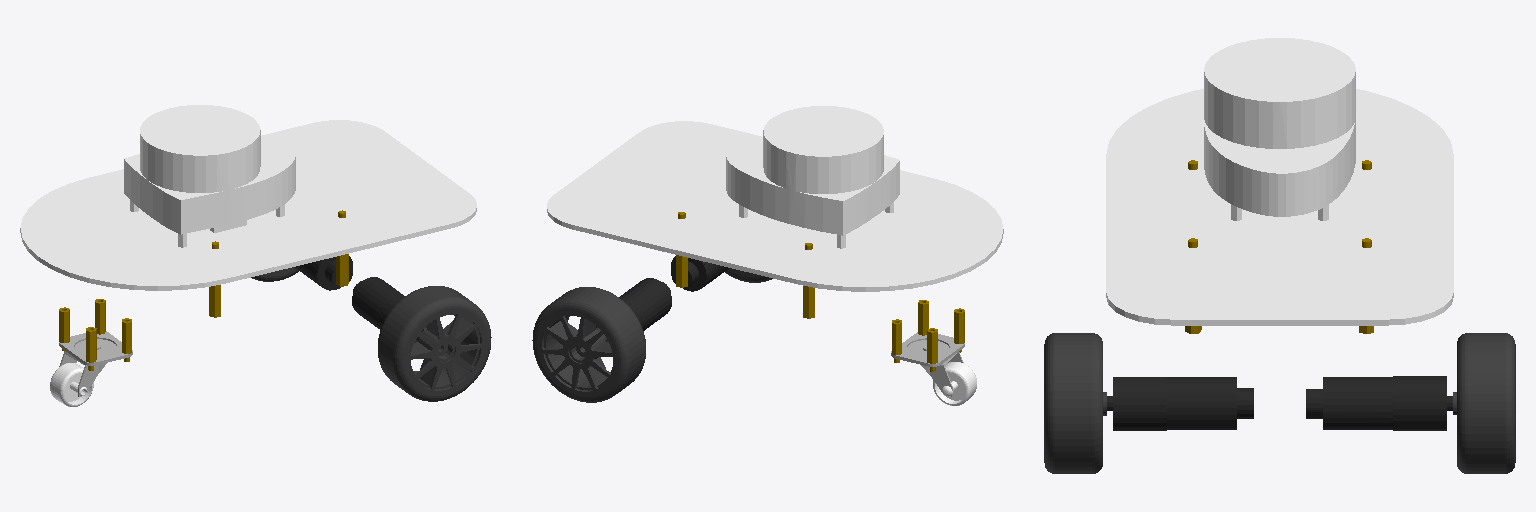
URDF robot description (qcl):
<?xml version="1.0" ?>
<robot
  name="qcl">
  <link
    name="base_link">
    <inertial>
      <origin
        xyz="0.04521 -0.00067608 0.013241"
        rpy="0 0 0" />
      <mass
        value="0.71026" />
      <inertia
        ixx="0.0008804"
        ixy="-4.168E-05"
        ixz="-4.9519E-05"
        iyy="0.0022413"
        iyz="2.1648E-06"
        izz="0.0029791" />
    </inertial>
    <visual>
      <origin
        xyz="0 0 0"
        rpy="0 0 0" />
      <geometry>
        <mesh
          filename="package://qcl_description/meshes/base_link.STL" />
      </geometry>
      <material
        name="">
        <color
          rgba="1 1 1 1" />
      </material>
    </visual>
    <collision>
      <origin
        xyz="0 0 0"
        rpy="0 0 0" />
      <geometry>
        <mesh
          filename="package://qcl_description/meshes/base_link.STL" />
      </geometry>
    </collision>
  </link>
  

<link name="rplidar_link">
    <inertial>
      <origin
        xyz="0.0050061 -0.00014713 -0.0014635"
        rpy="0 0 0" />
      <mass
        value="0.30656" />
      <inertia
        ixx="0.00015429"
        ixy="3.4962E-07"
        ixz="1.4789E-05"
        iyy="0.00021402"
        iyz="-7.8352E-07"
        izz="0.00026079" />
    </inertial>
    <visual>
      <origin
        xyz="0 0 0"
        rpy="0 0 0" />
      <geometry>
        <mesh
          filename="package://qcl_description/meshes/rplidar_link.STL" />
      </geometry>
      <material
        name="black">
        <color
          rgba="1 1 1 1" />
      </material>
    </visual>
    <collision>
      <origin
        xyz="0 0 0"
        rpy="0 0 0" />
      <geometry>
        <mesh
          filename="package://qcl_description/meshes/rplidar_link.STL" />
      </geometry>
    </collision>
  </link>

  <joint
    name="rplidar_link_joint"
    type="fixed">
    <origin
      xyz="-0.022 0 0.078"
      rpy="-6.123E-17 0 0" />
    <parent
      link="base_link" />
    <child
      link="rplidar_link" />
    <axis
      xyz="0 0 0" />
  </joint>


  <link
    name="left_motor_link">
    <inertial>
      <origin
        xyz="-0.0044525 -4.3264E-07 1.3878E-17"
        rpy="0 0 0" />
      <mass
        value="0.20548" />
      <inertia
        ixx="1.507E-05"
        ixy="3.3294E-09"
        ixz="1.3383E-21"
        iyy="7.099E-05"
        iyz="1.3162E-25"
        izz="7.099E-05" />
    </inertial>
    <visual>
      <origin
        xyz="0 0 0"
        rpy="0 0 0" />
      <geometry>
        <mesh
          filename="package://qcl_description/meshes/left_motor_link.STL" />
      </geometry>
      <material
        name="">
        <color
          rgba="0.2 0.2 0.2 1" />
      </material>
    </visual>
    <collision>
      <origin
        xyz="0 0 0"
        rpy="0 0 0" />
      <geometry>
        <mesh
          filename="package://qcl_description/meshes/left_motor_link.STL" />
      </geometry>
    </collision>
  </link>
  <joint
    name="left_motor_link_joint"
    type="fixed">
    <origin
      xyz="0.08 -0.052 -0.02"
      rpy="-1.5708 -6.123E-17 -1.5708" />
    <parent
      link="base_link" />
    <child
      link="left_motor_link" />
    <axis
      xyz="0 0 0" />
  </joint>
  <link
    name="right_motor_link">
    <inertial>
      <origin
        xyz="-0.0044525 4.3259E-07 -6.8314E-09"
        rpy="0 0 0" />
      <mass
        value="0.20548" />
      <inertia
        ixx="1.507E-05"
        ixy="-3.329E-09"
        ixz="5.0684E-11"
        iyy="7.099E-05"
        iyz="-2.0772E-12"
        izz="7.099E-05" />
    </inertial>
    <visual>
      <origin
        xyz="0 0 0"
        rpy="0 0 0" />
      <geometry>
        <mesh
          filename="package://qcl_description/meshes/right_motor_link.STL" />
      </geometry>
      <material
        name="">
        <color
          rgba="0.2 0.2 0.2 1" />
      </material>
    </visual>
    <collision>
      <origin
        xyz="0 0 0"
        rpy="0 0 0" />
      <geometry>
        <mesh
          filename="package://qcl_description/meshes/right_motor_link.STL" />
      </geometry>
    </collision>
  </link>
  <joint
    name="right_motor_link_joint"
    type="fixed">
    <origin
      xyz="0.08 0.052 -0.02"
      rpy="1.5864 -3.261E-10 1.5708" />
    <parent
      link="base_link" />
    <child
      link="right_motor_link" />
    <axis
      xyz="0 0 0" />
  </joint>
  <link
    name="left_wheel_link">
    <inertial>
      <origin
        xyz="-1.4851E-09 0.015015 2.4566E-10"
        rpy="0 0 0" />
      <mass
        value="0.075908" />
      <inertia
        ixx="2.6258E-05"
        ixy="-9.3219E-13"
        ixz="-2.8752E-13"
        iyy="4.396E-05"
        iyz="1.6286E-13"
        izz="2.6267E-05" />
    </inertial>
    <visual>
      <origin
        xyz="0 0 0"
        rpy="0 0 0" />
      <geometry>
        <mesh
          filename="package://qcl_description/meshes/left_wheel_link.STL" />
      </geometry>
      <material
        name="">
        <color
          rgba="0.29412 0.29412 0.29412 1" />
      </material>
    </visual>
    <collision>
      <origin
        xyz="0 0 0"
        rpy="0 0 0" />
      <geometry>
        <mesh
          filename="package://qcl_description/meshes/left_wheel_link.STL" />
      </geometry>
    </collision>
  </link>
  <joint
    name="left_wheel_link_joint"
    type="continuous">
    <origin
      xyz="0.08 -0.0795 -0.02"
      rpy="7.1976E-17 0.55346 -3.1416" />
    <parent
      link="base_link" />
    <child
      link="left_wheel_link" />
    <axis
      xyz="0 1 0" />
  </joint>
  <link
    name="right_wheel_link">
    <inertial>
      <origin
        xyz="5.2978E-10 0.015015 -1.4089E-09"
        rpy="0 0 0" />
      <mass
        value="0.075908" />
      <inertia
        ixx="2.6264E-05"
        ixy="3.2505E-13"
        ixz="3.9746E-09"
        iyy="4.396E-05"
        iyz="-8.8873E-13"
        izz="2.626E-05" />
    </inertial>
    <visual>
      <origin
        xyz="0 0 0"
        rpy="0 0 0" />
      <geometry>
        <mesh
          filename="package://qcl_description/meshes/right_wheel_link.STL" />
      </geometry>
      <material
        name="">
        <color
          rgba="0.29412 0.29412 0.29412 1" />
      </material>
    </visual>
    <collision>
      <origin
        xyz="0 0 0"
        rpy="0 0 0" />
      <geometry>
        <mesh
          filename="package://qcl_description/meshes/right_wheel_link.STL" />
      </geometry>
    </collision>
  </link>
  <joint
    name="right_wheel_link_joint"
    type="continuous">
    <origin
      xyz="0.08 0.0795 -0.02"
      rpy="-6.228E-17 0.18385 -1.1386E-17" />
    <parent
      link="base_link" />
    <child
      link="right_wheel_link" />
    <axis
      xyz="0 -1 0" />
  </joint>
  <link
    name="upper_pillar_link">
    <inertial>
      <origin
        xyz="-0.0036279 0.021701 -0.05825"
        rpy="0 0 0" />
      <mass
        value="0.043866" />
      <inertia
        ixx="8.162E-05"
        ixy="-2.2701E-21"
        ixz="-4.5145E-06"
        iyy="0.00014979"
        iyz="6.5106E-21"
        izz="8.2197E-05" />
    </inertial>
    <visual>
      <origin
        xyz="0 0 0"
        rpy="0 0 0" />
      <geometry>
        <mesh
          filename="package://qcl_description/meshes/upper_pillar_link.STL" />
      </geometry>
      <material
        name="">
        <color
          rgba="0.64706 0.51373 0 1" />
      </material>
    </visual>
    <collision>
      <origin
        xyz="0 0 0"
        rpy="0 0 0" />
      <geometry>
        <mesh
          filename="package://qcl_description/meshes/upper_pillar_link.STL" />
      </geometry>
    </collision>
  </link>
  <joint
    name="upper_pillar_link_joint"
    type="fixed">
    <origin
      xyz="0.05 -0.04 0.003"
      rpy="1.5708 4.1893E-17 0.75349" />
    <parent
      link="base_link" />
    <child
      link="upper_pillar_link" />
    <axis
      xyz="0 0 0" />
  </joint>
  <link
    name="second_base_link">
    <inertial>
      <origin
        xyz="0.0068684 0.0015 1.2737E-17"
        rpy="0 0 0" />
      <mass
        value="0.12289" />
      <inertia
        ixx="0.00024204"
        ixy="2.3431E-22"
        ixz="-2.2464E-20"
        iyy="0.00085621"
        iyz="-9.8075E-24"
        izz="0.00061435" />
    </inertial>
    <visual>
      <origin
        xyz="0 0 0"
        rpy="0 0 0" />
      <geometry>
        <mesh
          filename="package://qcl_description/meshes/second_base_link.STL" />
      </geometry>
      <material
        name="">
        <color
          rgba="1 1 1 1" />
      </material>
    </visual>
    <collision>
      <origin
        xyz="0 0 0"
        rpy="0 0 0" />
      <geometry>
        <mesh
          filename="package://qcl_description/meshes/second_base_link.STL" />
      </geometry>
    </collision>
  </link>
  <joint
    name="second_base_link_joint"
    type="fixed">
    <origin
      xyz="-0.0090977 0.04 -0.063382"
      rpy="0 -0.75349 0" />
    <parent
      link="upper_pillar_link" />
    <child
      link="second_base_link" />
    <axis
      xyz="0 0 0" />
  </joint>
  <link
    name="down_pillar_link">
    <inertial>
      <origin
        xyz="-0.019597 -0.011183 -0.00043751"
        rpy="0 0 0" />
      <mass
        value="0.018034" />
      <inertia
        ixx="4.0649E-06"
        ixy="1.5272E-22"
        ixz="8.2969E-07"
        iyy="7.0324E-06"
        iyz="-5.4456E-22"
        izz="4.5743E-06" />
    </inertial>
    <visual>
      <origin
        xyz="0 0 0"
        rpy="0 0 0" />
      <geometry>
        <mesh
          filename="package://qcl_description/meshes/down_pillar_link.STL" />
      </geometry>
      <material
        name="">
        <color
          rgba="0.64706 0.51373 0 1" />
      </material>
    </visual>
    <collision>
      <origin
        xyz="0 0 0"
        rpy="0 0 0" />
      <geometry>
        <mesh
          filename="package://qcl_description/meshes/down_pillar_link.STL" />
      </geometry>
    </collision>
  </link>
  <joint
    name="down_pillar_link_joint"
    type="fixed">
    <origin
      xyz="-0.08 0.0155 0"
      rpy="1.5708 4.9241E-17 0.93431" />
    <parent
      link="base_link" />
    <child
      link="down_pillar_link" />
    <axis
      xyz="0 0 0" />
  </joint>
  <link
    name="front_wheel_base_link">
    <inertial>
      <origin
        xyz="-4.7525E-18 0.00087738 -1.3878E-17"
        rpy="0 0 0" />
      <mass
        value="0.0018063" />
      <inertia
        ixx="1.6484E-07"
        ixy="-1.1488E-23"
        ixz="-9.6935E-24"
        iyy="3.9976E-07"
        iyz="2.0239E-24"
        izz="2.3607E-07" />
    </inertial>
    <visual>
      <origin
        xyz="0 0 0"
        rpy="0 0 0" />
      <geometry>
        <mesh
          filename="package://qcl_description/meshes/front_wheel_base_link.STL" />
      </geometry>
      <material
        name="">
        <color
          rgba="0.75294 0.75294 0.75294 1" />
      </material>
    </visual>
    <collision>
      <origin
        xyz="0 0 0"
        rpy="0 0 0" />
      <geometry>
        <mesh
          filename="package://qcl_description/meshes/front_wheel_base_link.STL" />
      </geometry>
    </collision>
  </link>
  <joint
    name="front_wheel_base_link_joint"
    type="fixed">
    <origin
      xyz="-0.019597 -0.022 -0.00043751"
      rpy="0 0.63649 0" />
    <parent
      link="down_pillar_link" />
    <child
      link="front_wheel_base_link" />
    <axis
      xyz="0 0 0" />
  </joint>
  <link
    name="front_wheel_link">
    <inertial>
      <origin
        xyz="0.004231 -0.0034555 2.7811E-08"
        rpy="0 0 0" />
      <mass
        value="0.0014826" />
      <inertia
        ixx="1.093E-07"
        ixy="2.5801E-08"
        ixz="-1.269E-13"
        iyy="1.713E-07"
        iyz="-1.3046E-13"
        izz="1.1404E-07" />
    </inertial>
    <visual>
      <origin
        xyz="0 0 0"
        rpy="0 0 0" />
      <geometry>
        <mesh
          filename="package://qcl_description/meshes/front_wheel_link.STL" />
      </geometry>
      <material
        name="">
        <color
          rgba="0.75294 0.75294 0.75294 1" />
      </material>
    </visual>
    <collision>
      <origin
        xyz="0 0 0"
        rpy="0 0 0" />
      <geometry>
        <mesh
          filename="package://qcl_description/meshes/front_wheel_link.STL" />
      </geometry>
    </collision>
  </link>
  <joint
    name="front_wheel_link_joint"
    type="continuous">
    <origin
      xyz="0 0 0"
      rpy="3.1416 1.4691 3.1416" />
    <parent
      link="front_wheel_base_link" />
    <child
      link="front_wheel_link" />
    <axis
      xyz="0 1 0" />
  </joint>
  <link
    name="front_wheel">
    <inertial>
      <origin
        xyz="-0.00029981 0 0"
        rpy="0 0 0" />
      <mass
        value="0.0030592" />
      <inertia
        ixx="2.5606E-07"
        ixy="2.2334E-22"
        ixz="1.8301E-23"
        iyy="1.7174E-07"
        iyz="-4.1747E-24"
        izz="1.7174E-07" />
    </inertial>
    <visual>
      <origin
        xyz="0 0 0"
        rpy="0 0 0" />
      <geometry>
        <mesh
          filename="package://qcl_description/meshes/front_wheel.STL" />
      </geometry>
      <material
        name="">
        <color
          rgba="1 1 1 1" />
      </material>
    </visual>
    <collision>
      <origin
        xyz="0 0 0"
        rpy="0 0 0" />
      <geometry>
        <mesh
          filename="package://qcl_description/meshes/front_wheel.STL" />
      </geometry>
    </collision>
  </link>
  <joint
    name="front_wheel_joint"
    type="continuous">
    <origin
      xyz="0.017 -0.01801 0"
      rpy="-1.6378 1.5708 0.0099499" />
    <parent
      link="front_wheel_link" />
    <child
      link="front_wheel" />
    <axis
      xyz="1 0 0" />
  </joint>
</robot>

--- Facts derived from the render (not from the file) ---
The picture shows the robot from 3 angles, left to right: view 1: azimuth 30°, elevation 25°; view 2: azimuth 150°, elevation 25°; view 3: azimuth 270°, elevation 25°; orthographic projection.
Robot: qcl — 12 links, 11 joints (4 continuous, 7 fixed); root link base_link; default pose: all joints at 0.
Visible links, largest first — view 1: second_base_link, rplidar_link, left_wheel_link, left_motor_link, down_pillar_link, front_wheel, front_wheel_base_link, right_motor_link, upper_pillar_link; view 2: second_base_link, rplidar_link, right_wheel_link, right_motor_link, down_pillar_link, front_wheel, front_wheel_base_link, left_motor_link, upper_pillar_link; view 3: second_base_link, rplidar_link, left_wheel_link, right_wheel_link, right_motor_link, left_motor_link, upper_pillar_link.
Boxes of the visible links, left/top/right/bottom form: second_base_link: left=20, top=120, right=476, bottom=290; rplidar_link: left=124, top=105, right=295, bottom=247; left_wheel_link: left=378, top=286, right=491, bottom=401; left_motor_link: left=352, top=277, right=415, bottom=342; down_pillar_link: left=59, top=299, right=131, bottom=370; front_wheel: left=50, top=363, right=93, bottom=406; front_wheel_base_link: left=59, top=331, right=132, bottom=365; right_motor_link: left=294, top=256, right=352, bottom=290; upper_pillar_link: left=209, top=210, right=348, bottom=317; second_base_link: left=547, top=121, right=1003, bottom=291; rplidar_link: left=726, top=106, right=899, bottom=248; right_wheel_link: left=532, top=287, right=645, bottom=402; right_motor_link: left=596, top=278, right=671, bottom=330; down_pillar_link: left=892, top=300, right=964, bottom=371; front_wheel: left=933, top=362, right=976, bottom=405; front_wheel_base_link: left=891, top=332, right=964, bottom=366; left_motor_link: left=671, top=256, right=729, bottom=291; upper_pillar_link: left=676, top=212, right=814, bottom=318; second_base_link: left=1106, top=89, right=1453, bottom=325; rplidar_link: left=1204, top=38, right=1355, bottom=220; left_wheel_link: left=1044, top=333, right=1106, bottom=473; right_wheel_link: left=1453, top=333, right=1515, bottom=473; right_motor_link: left=1306, top=376, right=1452, bottom=430; left_motor_link: left=1107, top=377, right=1253, bottom=430; upper_pillar_link: left=1185, top=160, right=1373, bottom=333.
Size in the robot's own frame: 0.26 by 0.217 by 0.1545 metres.
Meshes: 12 distinct files referenced, 11 mesh visuals loaded (11 binary STL); not drawn: 1 (reference not matched to a file when rendering).